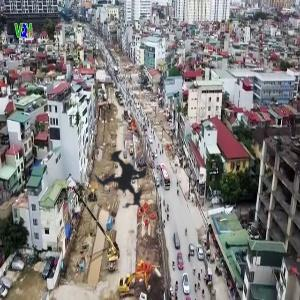drone: (40, 99, 206, 265)
